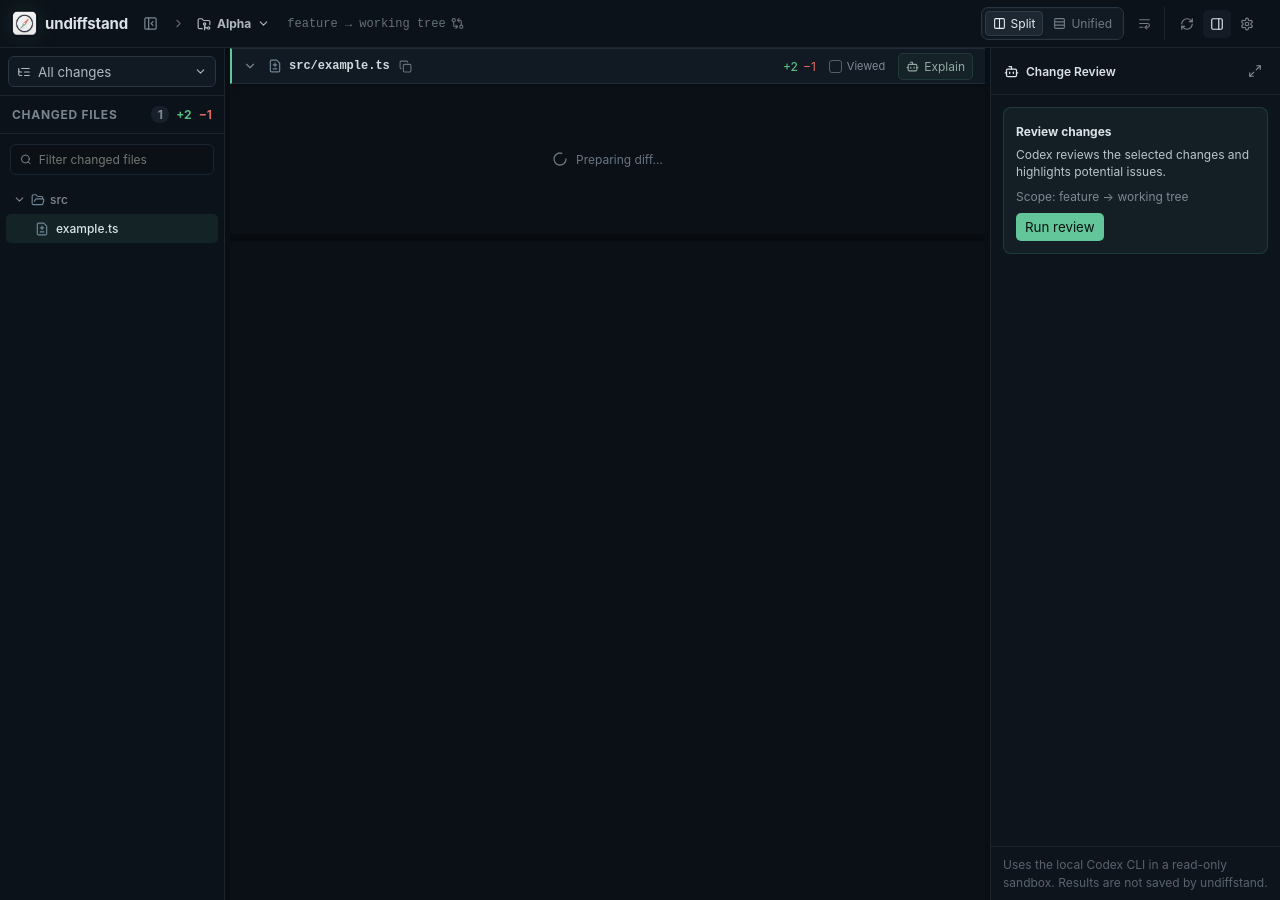
change details auto-refresh › shows the Change Review loading state only in the action button
Click the button "Run review": (1060, 227) [1016,213,1104,241]
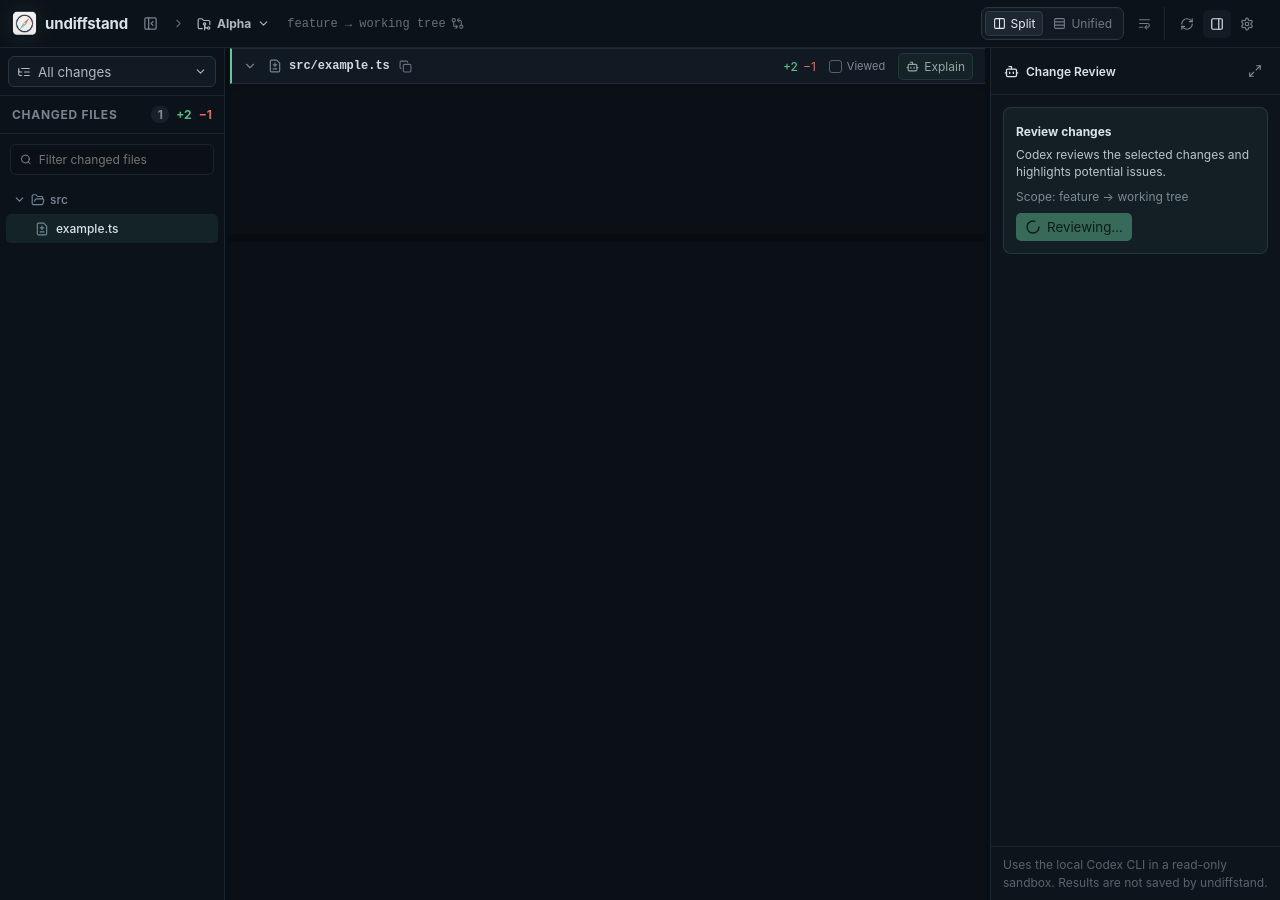
Expected: the button "Reviewing…" is disabled, [1016,213,1132,241]
